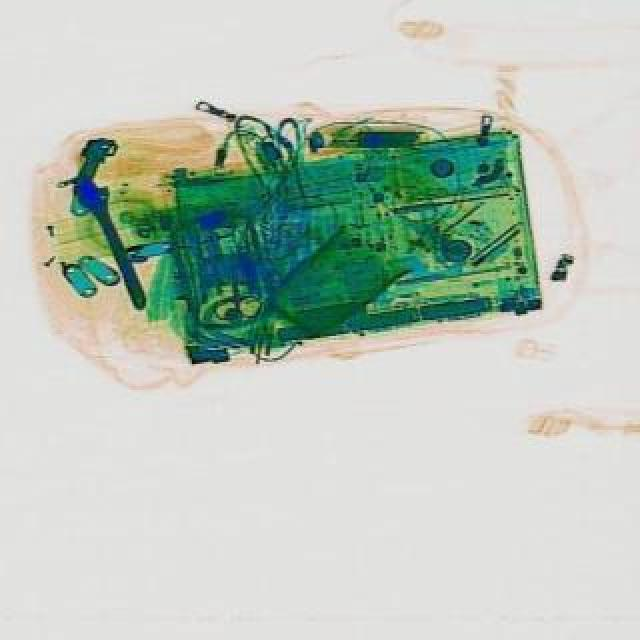scissors: (72, 170, 164, 318)
